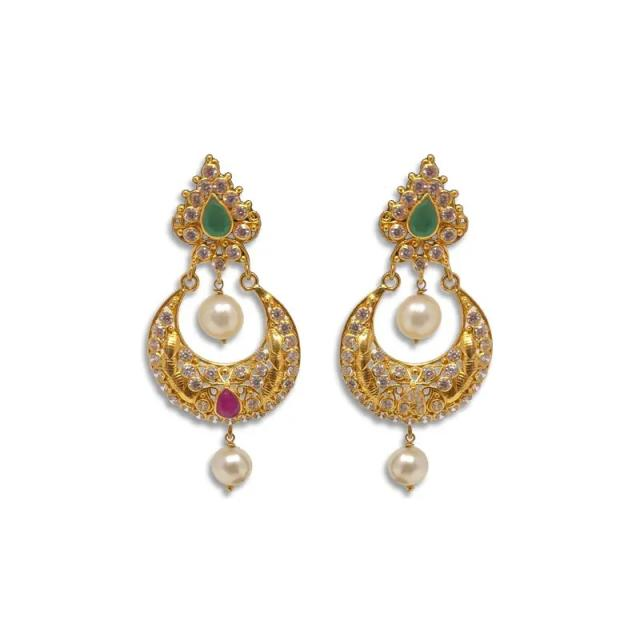missing gem: (399, 388, 425, 419)
